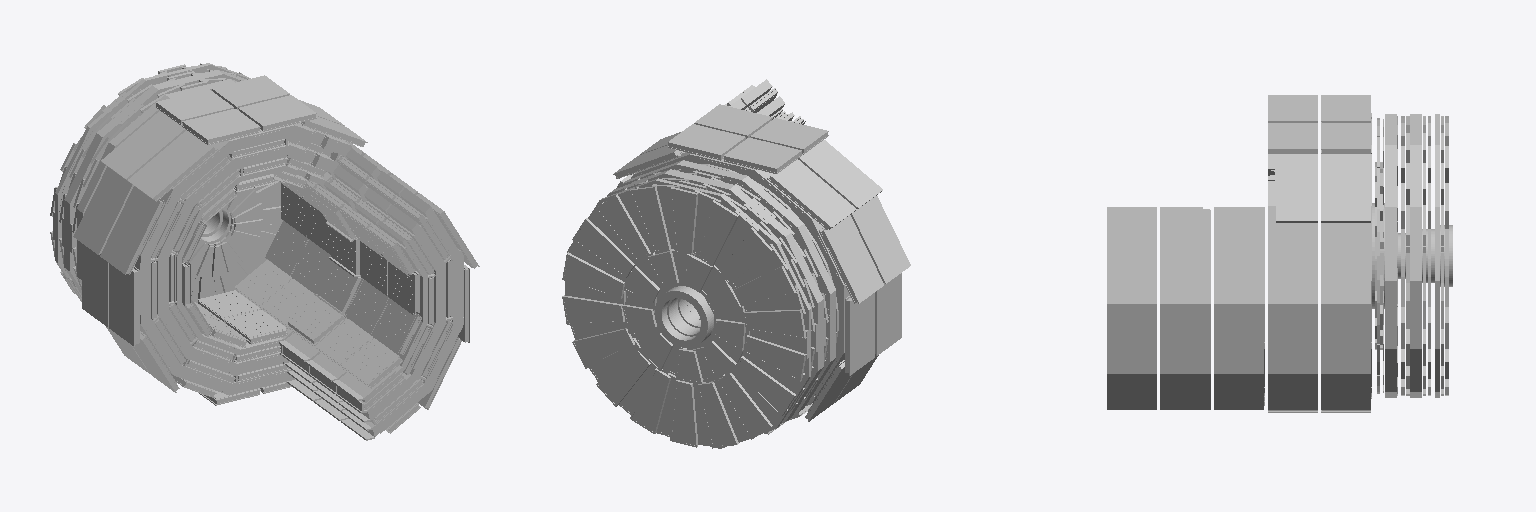
The model's file is muon-2.obj.
The picture shows the model from 3 angles: view 1: azimuth 30°, elevation 25°; view 2: azimuth 150°, elevation 25°; view 3: azimuth 270°, elevation 25°; orthographic projection.
Visible parts, largest first — view 1: Mesh2129 mb4_MB4BigSuperLayerPhi_materials_Air19 lp_mb4_MB4BigSu, Mesh956 mb4_MB4BigSuperLayerPhi_materials_Air9 lp_mb4_MB4BigSupe, Mesh2125 mb4_MB4BigSuperLayerPhi_materials_Air17 lp_mb4_MB4BigSu, Mesh952 mb4_MB4BigSuperLayerPhi_materials_Air7 lp_mb4_MB4BigSupe, Mesh2133 mb4_MB4BigSuperLayerPhi_materials_Air21 lp_mb4_MB4BigSu, Mesh960 mb4_MB4BigSuperLayerPhi_materials_Air11 lp_mb4_MB4BigSup, Mesh1337 mb3_MB3SuperLayerPhi_materials_Air31 lp_mb3_MB3SuperLay, Mesh1133 mb3_MB3SuperLayerPhi_materials_Air25 lp_mb3_MB3SuperLay, Mesh1137 mb3_MB3SuperLayerPhi_materials_Air27 lp_mb3_MB3SuperLay, Mesh1333 mb3_MB3SuperLayerPhi_materials_Air29 lp_mb3_MB3SuperLay, Mesh3020 muonYoke_YB3_w2_m1_materials_M_Steel_008_14 lp_muonYoke, Mesh3005 muonYoke_YB2_w2_m1_materials_M_Steel_008_15 lp_muonYoke (+7 smaller); view 2: Mesh956 mb4_MB4BigSuperLayerPhi_materials_Air9 lp_mb4_MB4BigSupe, Mesh2129 mb4_MB4BigSuperLayerPhi_materials_Air19 lp_mb4_MB4BigSu, Mesh952 mb4_MB4BigSuperLayerPhi_materials_Air7 lp_mb4_MB4BigSupe, Mesh2125 mb4_MB4BigSuperLayerPhi_materials_Air17 lp_mb4_MB4BigSu, Mesh960 mb4_MB4BigSuperLayerPhi_materials_Air11 lp_mb4_MB4BigSup, Mesh2133 mb4_MB4BigSuperLayerPhi_materials_Air21 lp_mb4_MB4BigSu, Mesh38 mf_ME42AlumFrame_materials_M_Aluminium19 lp_mf_ME42AlumFr, Mesh40 mf_ME42AlumFrame_materials_M_Aluminium21 lp_mf_ME42AlumFr, Mesh47 mf_ME42AlumFrame_materials_M_Aluminium28 lp_mf_ME42AlumFr, Mesh49 mf_ME42AlumFrame_materials_M_Aluminium30 lp_mf_ME42AlumFr, Mesh46 mf_ME42AlumFrame_materials_M_Aluminium27 lp_mf_ME42AlumFr, Mesh39 mf_ME42AlumFrame_materials_M_Aluminium20 lp_mf_ME42AlumFr (+28 smaller); view 3: Mesh2272 mb4_MB4BigSuperLayerPhi_materials_Air23 lp_mb4_MB4BigSu, Mesh2635 mb4_MB4BigSuperLayerPhi_materials_Air29 lp_mb4_MB4BigSu, Mesh2916 mb4_MB4BigSuperLayerPhi_materials_Air31 lp_mb4_MB4BigSu, Mesh1546 mb4_MB4BigSuperLayerPhi_materials_Air15 lp_mb4_MB4BigSu, Mesh648 mb4_MB4BigSuperLayerPhi_materials_Air3 lp_mb4_MB4BigSupe, Mesh2595 mb4_MB4BigSuperLayerPhi_materials_Air27 lp_mb4_MB4BigSu, Mesh644 mb4_MB4BigSuperLayerPhi_materials_Air1 lp_mb4_MB4BigSupe, Mesh1542 mb4_MB4BigSuperLayerPhi_materials_Air13 lp_mb4_MB4BigSu, Mesh2287 mb4_MB4BigSuperLayerPhi_materials_Air25 lp_mb4_MB4BigSu, Mesh3029 mb4_MB4BigSuperLayerPhi_materials_Air33 lp_mb4_MB4BigSu, Mesh652 mb4_MB4BigSuperLayerPhi_materials_Air5 lp_mb4_MB4BigSupe, Mesh1757 mb4_MB4BigChimSuperLayerPhi_materials_Air1 lp_mb4_MB4Bi (+16 smaller).
Part boxes in pixels (x1,y1,x2,y2): Mesh2129 mb4_MB4BigSuperLayerPhi_materials_Air19 lp_mb4_MB4BigSu: (100, 186, 160, 274); Mesh956 mb4_MB4BigSuperLayerPhi_materials_Air9 lp_mb4_MB4BigSupe: (73, 166, 132, 254); Mesh2125 mb4_MB4BigSuperLayerPhi_materials_Air17 lp_mb4_MB4BigSu: (127, 130, 213, 198); Mesh952 mb4_MB4BigSuperLayerPhi_materials_Air7 lp_mb4_MB4BigSupe: (101, 111, 185, 179); Mesh2133 mb4_MB4BigSuperLayerPhi_materials_Air21 lp_mb4_MB4BigSu: (109, 263, 134, 346); Mesh960 mb4_MB4BigSuperLayerPhi_materials_Air11 lp_mb4_MB4BigSup: (82, 244, 107, 326); Mesh1337 mb3_MB3SuperLayerPhi_materials_Air31 lp_mb3_MB3SuperLay: (182, 109, 260, 140); Mesh1133 mb3_MB3SuperLayerPhi_materials_Air25 lp_mb3_MB3SuperLay: (212, 75, 289, 107); Mesh1137 mb3_MB3SuperLayerPhi_materials_Air27 lp_mb3_MB3SuperLay: (156, 89, 233, 120); Mesh1333 mb3_MB3SuperLayerPhi_materials_Air29 lp_mb3_MB3SuperLay: (238, 95, 316, 126); Mesh3020 muonYoke_YB3_w2_m1_materials_M_Steel_008_14 lp_muonYoke: (400, 188, 462, 259); Mesh3005 muonYoke_YB2_w2_m1_materials_M_Steel_008_15 lp_muonYoke: (387, 205, 444, 269); Mesh956 mb4_MB4BigSuperLayerPhi_materials_Air9 lp_mb4_MB4BigSupe: (823, 215, 883, 303); Mesh2129 mb4_MB4BigSuperLayerPhi_materials_Air19 lp_mb4_MB4BigSu: (851, 196, 910, 283); Mesh952 mb4_MB4BigSuperLayerPhi_materials_Air7 lp_mb4_MB4BigSupe: (770, 159, 856, 227); Mesh2125 mb4_MB4BigSuperLayerPhi_materials_Air17 lp_mb4_MB4BigSu: (799, 140, 882, 208); Mesh960 mb4_MB4BigSuperLayerPhi_materials_Air11 lp_mb4_MB4BigSup: (849, 293, 874, 375); Mesh2133 mb4_MB4BigSuperLayerPhi_materials_Air21 lp_mb4_MB4BigSu: (876, 273, 901, 355); Mesh38 mf_ME42AlumFrame_materials_M_Aluminium19 lp_mf_ME42AlumFr: (572, 218, 634, 277); Mesh40 mf_ME42AlumFrame_materials_M_Aluminium21 lp_mf_ME42AlumFr: (630, 186, 670, 252); Mesh47 mf_ME42AlumFrame_materials_M_Aluminium28 lp_mf_ME42AlumFr: (733, 356, 795, 416); Mesh49 mf_ME42AlumFrame_materials_M_Aluminium30 lp_mf_ME42AlumFr: (697, 382, 738, 448); Mesh46 mf_ME42AlumFrame_materials_M_Aluminium27 lp_mf_ME42AlumFr: (743, 335, 806, 381); Mesh39 mf_ME42AlumFrame_materials_M_Aluminium20 lp_mf_ME42AlumFr: (596, 194, 650, 261); Mesh2272 mb4_MB4BigSuperLayerPhi_materials_Air23 lp_mb4_MB4BigSu: (1214, 222, 1264, 303); Mesh2635 mb4_MB4BigSuperLayerPhi_materials_Air29 lp_mb4_MB4BigSu: (1160, 222, 1210, 303); Mesh2916 mb4_MB4BigSuperLayerPhi_materials_Air31 lp_mb4_MB4BigSu: (1107, 222, 1156, 303); Mesh1546 mb4_MB4BigSuperLayerPhi_materials_Air15 lp_mb4_MB4BigSu: (1268, 222, 1317, 303); Mesh648 mb4_MB4BigSuperLayerPhi_materials_Air3 lp_mb4_MB4BigSupe: (1321, 223, 1370, 303); Mesh2595 mb4_MB4BigSuperLayerPhi_materials_Air27 lp_mb4_MB4BigSu: (1160, 304, 1210, 373); Mesh644 mb4_MB4BigSuperLayerPhi_materials_Air1 lp_mb4_MB4BigSupe: (1321, 304, 1370, 373); Mesh1542 mb4_MB4BigSuperLayerPhi_materials_Air13 lp_mb4_MB4BigSu: (1268, 304, 1317, 373); Mesh2287 mb4_MB4BigSuperLayerPhi_materials_Air25 lp_mb4_MB4BigSu: (1214, 304, 1263, 373); Mesh3029 mb4_MB4BigSuperLayerPhi_materials_Air33 lp_mb4_MB4BigSu: (1107, 304, 1156, 373); Mesh652 mb4_MB4BigSuperLayerPhi_materials_Air5 lp_mb4_MB4BigSupe: (1321, 154, 1370, 221); Mesh1757 mb4_MB4BigChimSuperLayerPhi_materials_Air1 lp_mb4_MB4Bi: (1276, 154, 1317, 221).
Bounding box in the file's own units: 15.79 × 14.73 × 17.29.